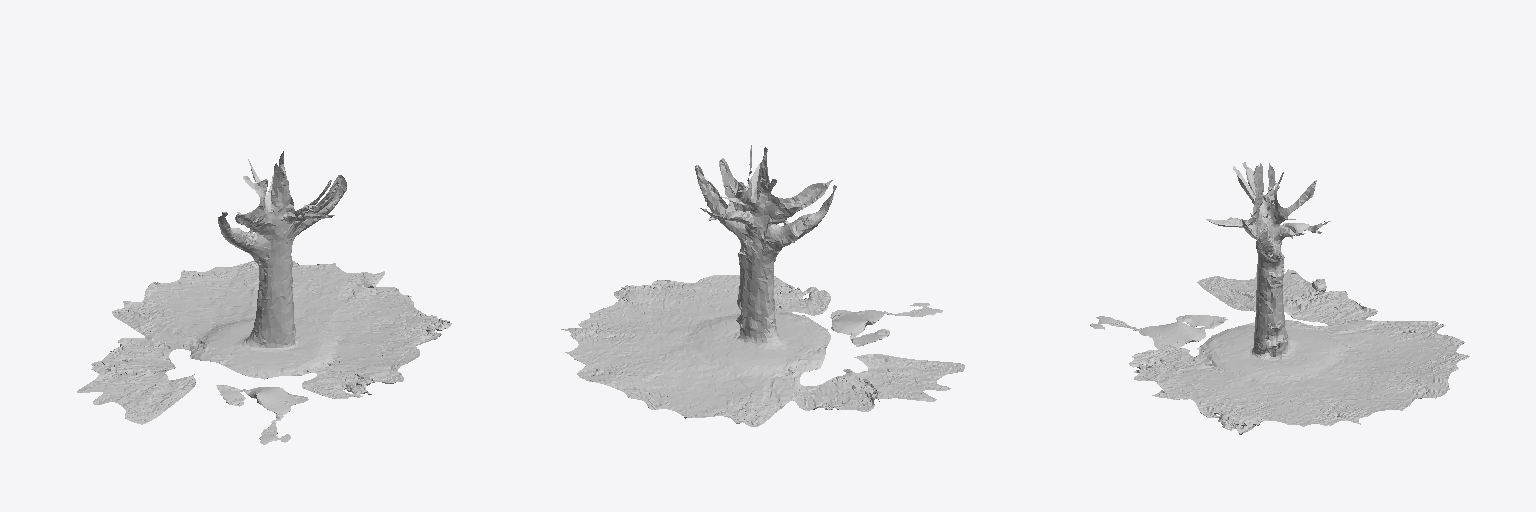
File: tree2.obj
The picture shows the model from 3 angles: view 1: azimuth 30°, elevation 25°; view 2: azimuth 150°, elevation 25°; view 3: azimuth 270°, elevation 25°; orthographic projection.
Bounding box in the file's own units: 6.58 × 3.77 × 6.24.